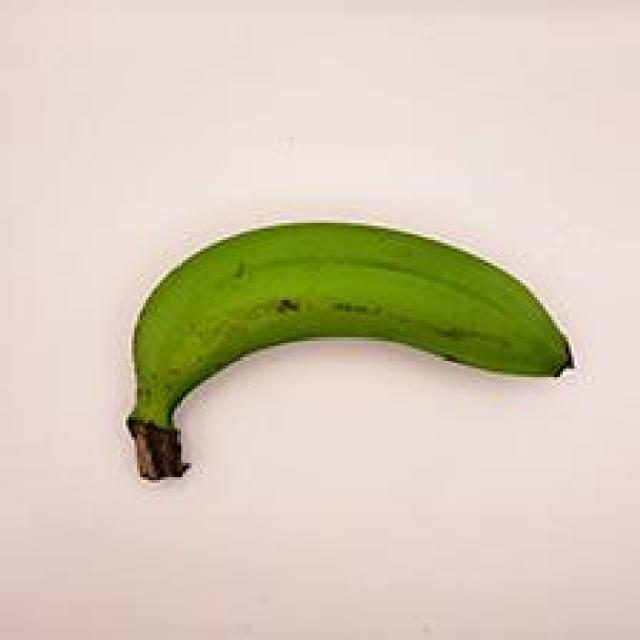Raw: (90, 180, 594, 528)
